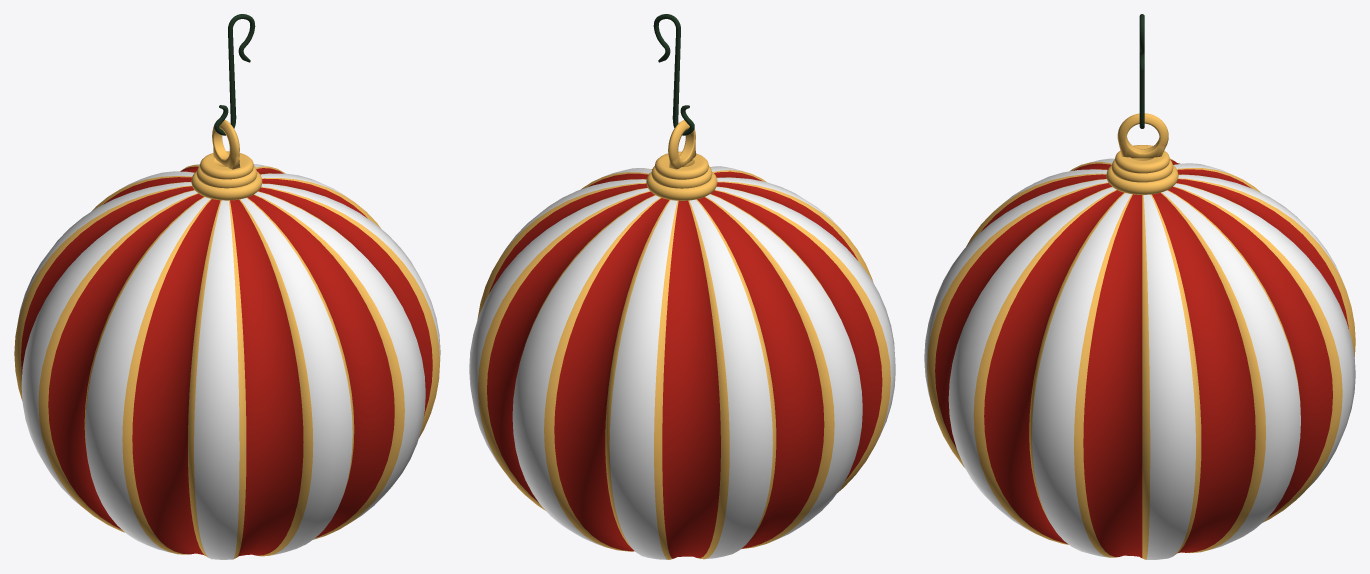
Rendered from Pallina_natalizia_07.fbx.
3 views of the same model, side by side, from view 1: azimuth 30°, elevation 25°; view 2: azimuth 150°, elevation 25°; view 3: azimuth 270°, elevation 25° (orthographic).
Visible parts, largest first — view 1: Pallina_natalizia_07; view 2: Pallina_natalizia_07; view 3: Pallina_natalizia_07.
Boxes of the visible parts, x1,y1,x2,y2 form: Pallina_natalizia_07: (14,14,440,559); Pallina_natalizia_07: (469,14,895,559); Pallina_natalizia_07: (924,14,1355,559).
Size of the model in its own units: 13.16 by 17.75 by 13.11.
